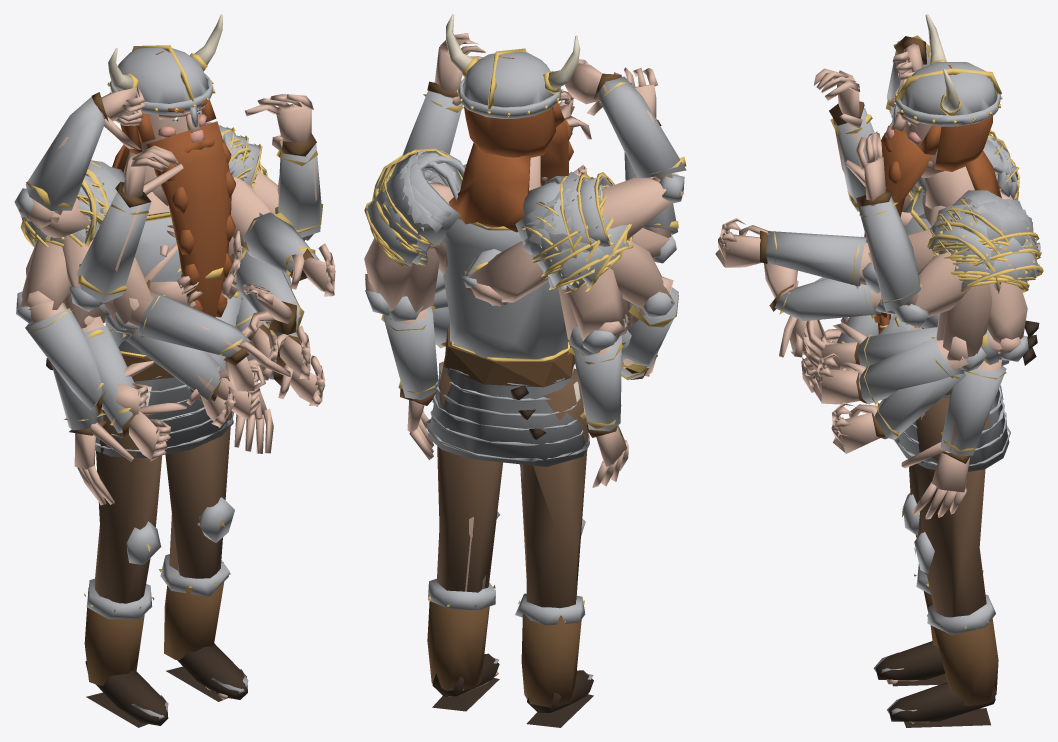
The model's file is hero_2.glb.
3 views of the same model, side by side, from view 1: azimuth 30°, elevation 25°; view 2: azimuth 150°, elevation 25°; view 3: azimuth 270°, elevation 25° (orthographic). The views are drawn at different scales.
Visible parts, largest first — view 1: B_7d, B_8d, B_0d, B_6d, B_5d, R.raised_21d, R.cast_33d, R.xbowR_41d, R.staffR_29d, L.cast_69d, R.twoR_37d, R.staffR_26d (+33 smaller); view 2: B_6d, B_7d, B_8d, B_0d, B_5d, R.raised_21d, L.carry_76d, L.rest_49d, R.rest_13d, R.raised_20d, R.draw_22d, R.raised_18d (+27 smaller); view 3: B_8d, B_7d, B_0d, B_5d, L.cast_69d, L.bowArm_57d, L.shield_53d, L.rest_49d, L.xbowL_65d, B_6d, L.carry_76d, L.shield_50d (+25 smaller).
Part boxes in pixels (x1,y1,x2,y2): B_7d: [94, 378, 234, 603]; B_8d: [84, 554, 248, 727]; B_0d: [112, 51, 235, 317]; B_6d: [95, 209, 233, 457]; B_5d: [107, 14, 222, 127]; R.raised_21d: [14, 92, 108, 217]; R.cast_33d: [69, 181, 151, 311]; R.xbowR_41d: [115, 294, 252, 365]; R.staffR_29d: [16, 291, 105, 414]; L.cast_69d: [275, 133, 323, 240]; R.twoR_37d: [106, 314, 223, 401]; R.staffR_26d: [17, 236, 70, 324]; B_6d: [425, 217, 589, 466]; B_7d: [436, 357, 588, 608]; B_8d: [427, 578, 593, 727]; B_0d: [449, 57, 573, 232]; B_5d: [446, 14, 580, 118]; R.raised_21d: [594, 73, 686, 203]; L.carry_76d: [364, 155, 460, 264]; L.rest_49d: [381, 296, 438, 405]; R.rest_13d: [567, 326, 622, 437]; R.raised_20d: [523, 172, 614, 263]; R.draw_22d: [466, 241, 548, 306]; R.raised_18d: [601, 84, 683, 240]; B_8d: [873, 564, 998, 727]; B_7d: [902, 397, 989, 617]; B_0d: [864, 65, 1001, 334]; B_5d: [891, 14, 1002, 126]; L.cast_69d: [856, 189, 928, 327]; L.bowArm_57d: [760, 230, 880, 293]; L.shield_53d: [856, 337, 986, 404]; L.rest_49d: [940, 359, 1009, 463]; L.xbowL_65d: [769, 278, 895, 321]; B_6d: [894, 186, 1010, 471]; L.carry_76d: [929, 199, 1043, 291]; L.shield_50d: [923, 284, 992, 370].
Bounding box in the file's own units: 0.6605 × 1.41 × 0.6397.
